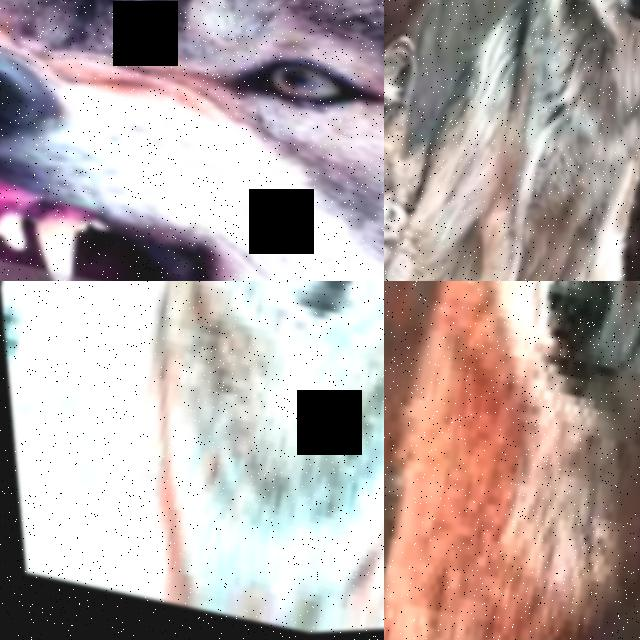wolf: (38, 281, 384, 640), (0, 0, 384, 281), (384, 281, 640, 640), (384, 0, 640, 281), (384, 0, 491, 281), (384, 0, 526, 121)
